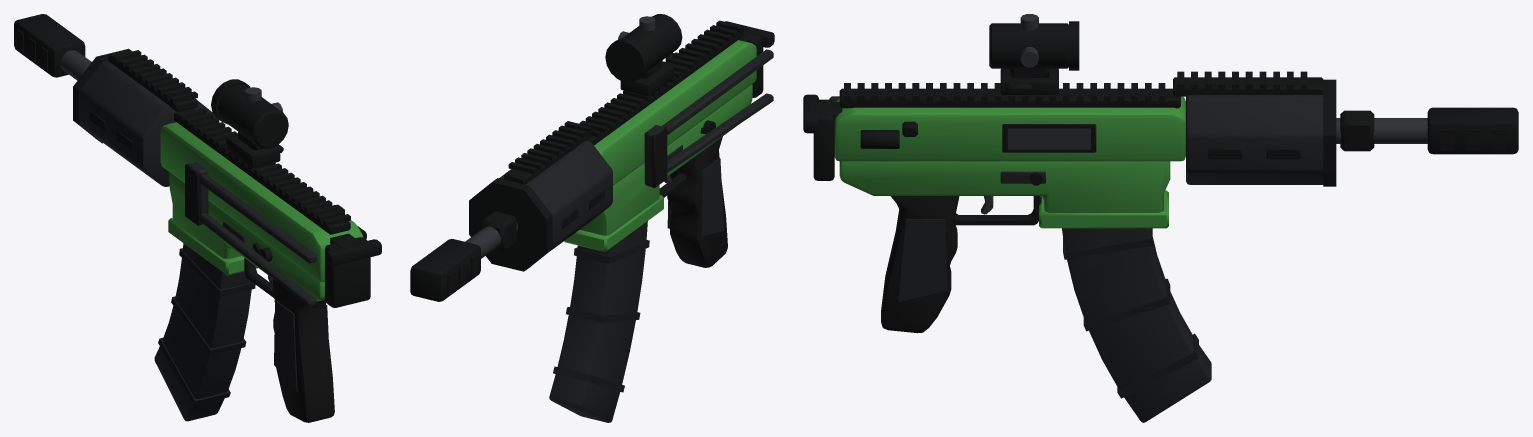
File: gun_20.glb
The picture shows the model from 3 angles, left to right: view 1: azimuth 30°, elevation 25°; view 2: azimuth 150°, elevation 25°; view 3: azimuth 270°, elevation 25°; orthographic projection. The views are drawn at different scales.
Parts seen in each view (by area): view 1: gun_20; view 2: gun_20; view 3: gun_20.
Part boxes in pixels (left/top/right/bottom): gun_20: left=14, top=14, right=381, bottom=422; gun_20: left=410, top=14, right=774, bottom=422; gun_20: left=803, top=14, right=1518, bottom=422.
Size of the model in its own units: 0.0765 by 0.337 by 0.5495.
